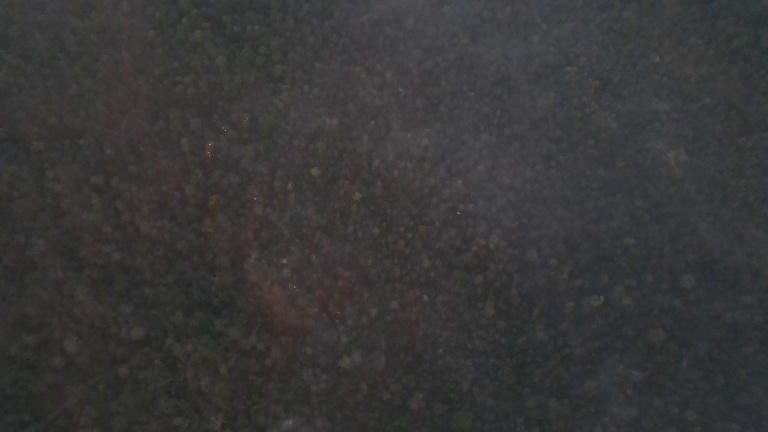fire: (207, 141, 216, 160), (453, 210, 464, 221), (250, 195, 259, 205), (333, 309, 343, 317), (220, 126, 231, 132), (292, 284, 301, 291)
